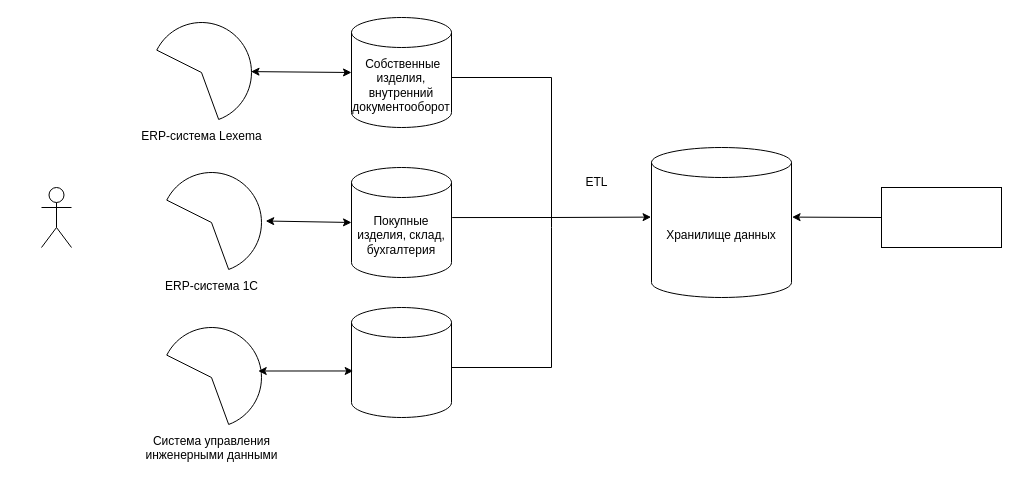
This 1019x481 diagram has some shape labels left out. Here are the shapes that lost their labels. From the top down, the box of each, then its label:
(40, 186, 72, 248): Пользователь
(880, 186, 1002, 248): Инструменты бизнес-аналитики
(350, 306, 452, 418): Конструкторская документация
